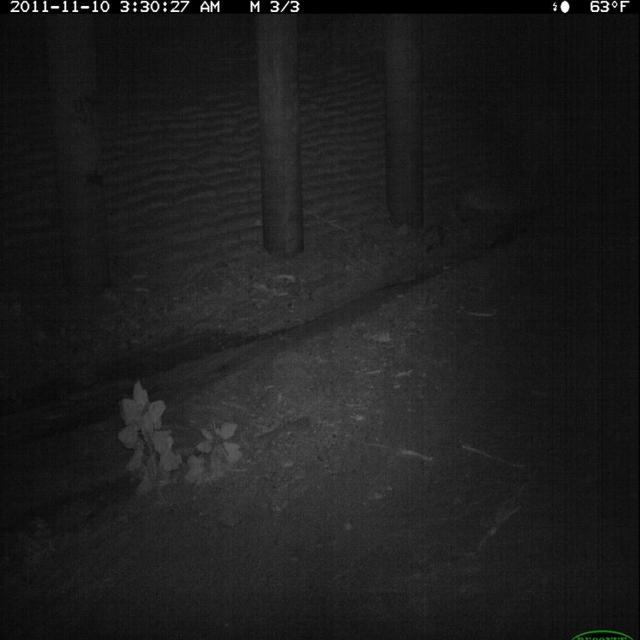opossum: (417, 220, 452, 261)
